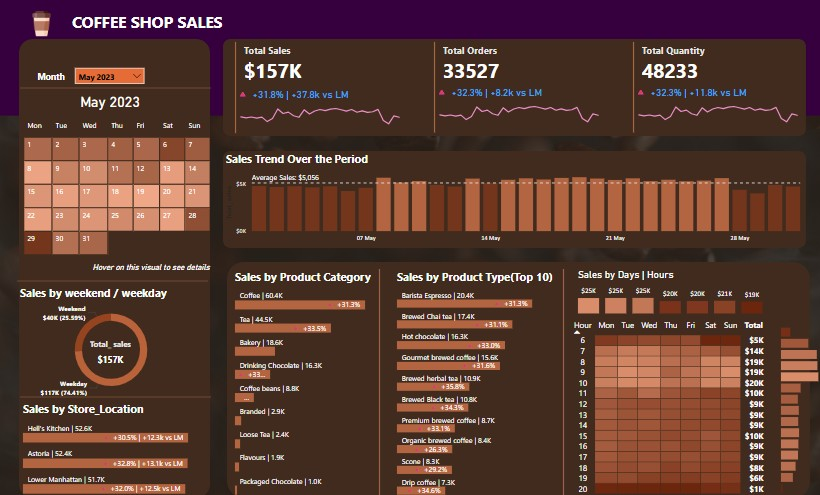

What the dashboard file says about the page in this screenshot:
{"tool":"powerbi","page":{"name":"Page 1","canvas":[1400,850],"ordinal":0},"visuals":[{"type":"shape","box":[0,0,1400,200.3],"z":0},{"type":"shape","box":[35.7,69.7,324.7,780.3],"z":1000},{"type":"shape","box":[382.5,69.7,991.1,164.9],"z":2000},{"type":"textbox","box":[120.7,17,316.2,52.7],"z":3000},{"type":"slicer","fields":{"Values":["Date.Month_year"]},"box":[125.8,113.9,127.5,32.3],"z":4000},{"type":"image","box":[30.6,17,86.7,52.7],"z":5000},{"type":"cardVisual","fields":{"Data":["Transactions.Total_ sales"]},"box":[397.8,69.7,300,165],"z":6000},{"type":"lineChart","fields":{"Y":["Sum(Transactions.Total sales)"],"Category":["Date.Date Hierarchy.Date"]},"box":[397.8,149.6,299.2,85],"z":7000},{"type":"cardVisual","fields":{"Data":["Transactions.Total orders"]},"box":[736.1,69.7,299.2,164.9],"z":8000},{"type":"cardVisual","fields":{"Data":["Transactions.Total qty"]},"box":[1074.4,69.7,299.2,164.9],"z":9000},{"type":"lineChart","fields":{"Y":["Sum(Transactions.Total sales)"],"Category":["Date.Date Hierarchy.Date"]},"box":[736.1,146.2,299.2,85],"z":10000},{"type":"lineChart","fields":{"Y":["Sum(Transactions.Total sales)"],"Category":["Date.Date Hierarchy.Date"]},"box":[1074.4,146.2,299.2,85],"z":11000},{"type":"pivotTable","fields":{"Rows":["Date.Week no"],"Columns":["Date.Day_name"],"Values":["Min(Date.Day no)"]},"box":[35.7,200.6,329.8,248.2],"z":12000},{"type":"card","fields":{"Values":["Min(Date.Month_year)"]},"box":[120.7,149.6,139.4,52.7],"z":13000},{"type":"card","fields":{"Values":["Transactions.Note"]},"box":[102,438.6,316.2,42.5],"z":14000},{"type":"shape","box":[32.3,474.3,324.7,13.6],"z":15000},{"type":"shape","box":[37.4,146.2,324.7,13.6],"z":16000},{"type":"donutChart","title":"Sales by weekend / weekday","fields":{"Y":["Transactions.Total_ sales"],"Category":["Date.Weekday & weekend"]},"box":[32.3,487.9,319.6,195.5],"z":17000},{"type":"cardVisual","fields":{"Data":["Transactions.Total_ sales"]},"box":[125.8,562.7,130.9,73.1],"z":18000},{"type":"shape","box":[37.4,671.5,324.7,13.6],"z":19000},{"type":"clusteredBarChart","title":"Sales by Store_Location","fields":{"Category":["Transactions.store_location"],"Y":["Transactions.Cell holder","Transactions.Total_ sales"]},"box":[37.4,685.1,319.6,164.9],"z":20000},{"type":"shape","box":[382.5,260.1,991.1,164.9],"z":21000},{"type":"columnChart","title":"Sales Trend Over the Period","fields":{"Category":["Transactions.transaction_date"],"Y":["Transactions.Total_ sales"]},"box":[382.5,260.1,991.1,163.2],"z":22000},{"type":"shape","box":[389.3,448.8,991.1,401.2],"z":23000},{"type":"clusteredBarChart","title":"Sales by Product Category","fields":{"Y":["Transactions.Cell holder","Transactions.Total_ sales"],"Category":["Transactions.product_category"]},"box":[397.8,460.7,263.5,389.3],"z":24000},{"type":"clusteredBarChart","title":"Sales by Product Type(Top 10)","fields":{"Y":["Transactions.Cell holder","Transactions.Total_ sales"],"Category":["Transactions.product_type"]},"box":[673.2,460.7,275.4,389.3],"z":25000},{"type":"pivotTable","fields":{"Rows":["Transactions.Hour"],"Columns":["Date.Day_name"],"Values":["Transactions.Total_ sales"]},"box":[969,542.3,348.5,307.7],"z":26000},{"type":"shape","box":[635.8,460.7,25.5,389.3],"z":27000},{"type":"shape","box":[948.6,460.7,25.5,389.3],"z":28000},{"type":"barChart","fields":{"Category":["Transactions.Hour"],"Y":["Transactions.Total_ sales"]},"box":[1326,547.4,74.8,299.2],"z":29000},{"type":"columnChart","title":"Sales by Days | Hours","fields":{"Category":["Date.Day_name"],"Y":["Transactions.Total_ sales"]},"box":[980.9,460.7,324.7,81.6],"z":30000},{"type":"textbox","box":[54.4,119,71.4,30.6],"z":30001}]}

Visuals, with their boxes in screenshot pixels (x1, y1, x2, y2), scaled from the page's 1400x850 canvas onto the 820x495 screenshot:
shape: <region>0, 0, 819, 117</region>
shape: <region>21, 41, 211, 494</region>
shape: <region>224, 41, 805, 137</region>
textbox: <region>71, 10, 256, 41</region>
slicer - Date.Month_year: <region>74, 66, 148, 85</region>
image: <region>18, 10, 69, 41</region>
cardVisual - Transactions.Total_ sales: <region>233, 41, 409, 137</region>
lineChart - Sum(Transactions.Total sales) x Date.Date Hierarchy.Date: <region>233, 87, 408, 137</region>
cardVisual - Transactions.Total orders: <region>431, 41, 606, 137</region>
cardVisual - Transactions.Total qty: <region>629, 41, 805, 137</region>
lineChart - Sum(Transactions.Total sales) x Date.Date Hierarchy.Date: <region>431, 85, 606, 135</region>
lineChart - Sum(Transactions.Total sales) x Date.Date Hierarchy.Date: <region>629, 85, 805, 135</region>
pivotTable - Date.Week no x Date.Day_name: <region>21, 117, 214, 261</region>
card - Min(Date.Month_year): <region>71, 87, 152, 118</region>
card - Transactions.Note: <region>60, 255, 245, 280</region>
shape: <region>19, 276, 209, 284</region>
shape: <region>22, 85, 212, 93</region>
"Sales by weekend / weekday" donutChart: <region>19, 284, 206, 398</region>
cardVisual - Transactions.Total_ sales: <region>74, 328, 150, 370</region>
shape: <region>22, 391, 212, 399</region>
"Sales by Store_Location" clusteredBarChart: <region>22, 399, 209, 494</region>
shape: <region>224, 151, 805, 248</region>
"Sales Trend Over the Period" columnChart: <region>224, 151, 805, 247</region>
shape: <region>228, 261, 809, 494</region>
"Sales by Product Category" clusteredBarChart: <region>233, 268, 387, 494</region>
"Sales by Product Type(Top 10)" clusteredBarChart: <region>394, 268, 556, 494</region>
pivotTable - Transactions.Hour x Date.Day_name: <region>568, 316, 772, 494</region>
shape: <region>372, 268, 387, 494</region>
shape: <region>556, 268, 571, 494</region>
barChart - Transactions.Hour x Transactions.Total_ sales: <region>777, 319, 819, 493</region>
"Sales by Days | Hours" columnChart: <region>575, 268, 765, 316</region>
textbox: <region>32, 69, 74, 87</region>
